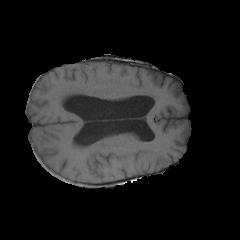glioma: (57, 76, 158, 100)
